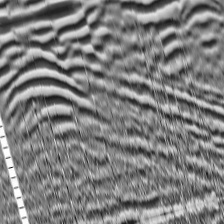cavities: (2, 31, 105, 140)
